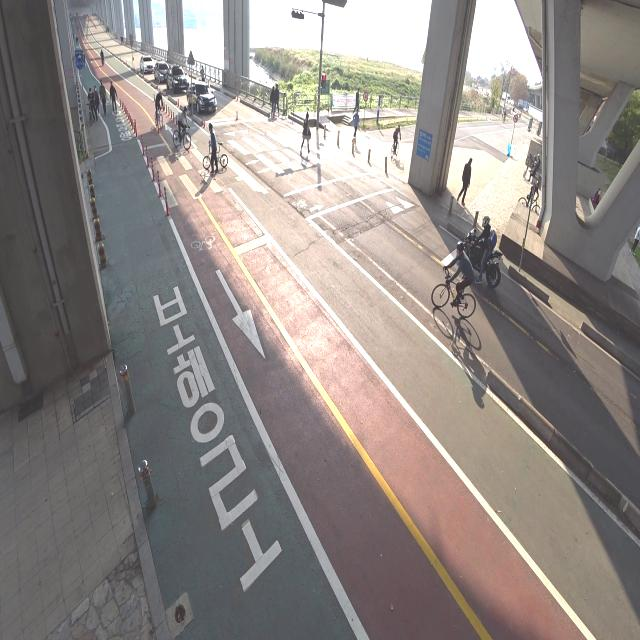Car: (189, 79, 219, 115), (167, 62, 191, 95), (138, 52, 156, 76), (154, 59, 171, 84)
Motorcycle: (456, 213, 502, 289)
